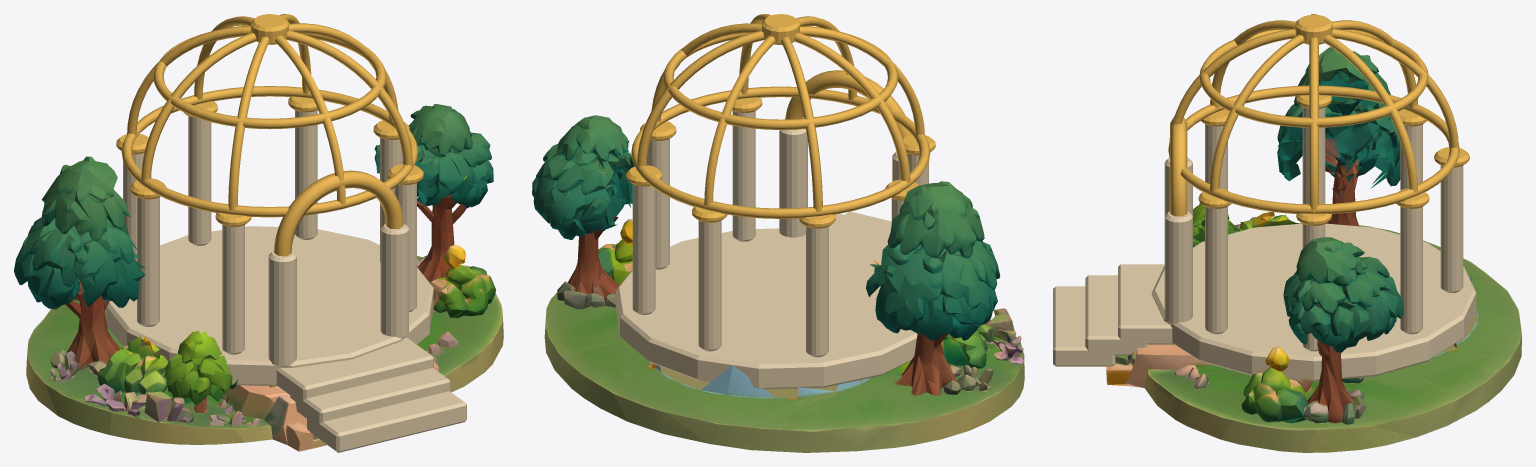
The model's file is botanic-v01.glb.
The picture shows the model from 3 angles, left to right: view 1: azimuth 30°, elevation 25°; view 2: azimuth 150°, elevation 25°; view 3: azimuth 270°, elevation 25°; orthographic projection. The views are drawn at different scales.
Parts seen in each view (by area): view 1: Botanic_OpenPavilion, Botanic_Foliage; view 2: Botanic_OpenPavilion, Botanic_Foliage; view 3: Botanic_OpenPavilion, Botanic_Foliage.
Boxes of the visible parts, x1,y1,x2,y2 form: Botanic_OpenPavilion: (15, 14, 503, 452); Botanic_Foliage: (14, 104, 502, 425); Botanic_OpenPavilion: (544, 14, 1024, 452); Botanic_Foliage: (532, 115, 1023, 428); Botanic_OpenPavilion: (1053, 14, 1521, 452); Botanic_Foliage: (1115, 47, 1519, 429).
Bounding box in the file's own units: 1.9 × 1.34 × 1.73.
Materials: 3 (1 with a texture image).
